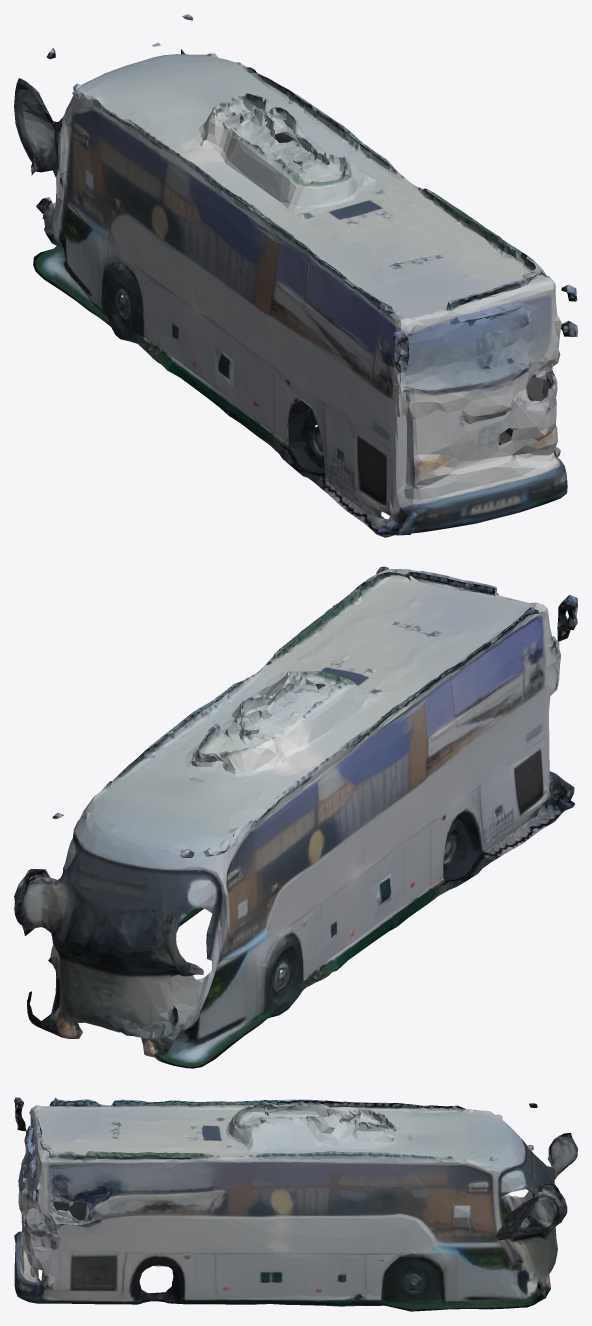
Rendered from 0_bus.glb.
The picture shows the model from 3 angles, top to bottom: view 1: azimuth 30°, elevation 25°; view 2: azimuth 150°, elevation 25°; view 3: azimuth 270°, elevation 25°; orthographic projection. The views are drawn at different scales.
Parts seen in each view (by area): view 1: world; view 2: world; view 3: world.
Part boxes in pixels (left/top/right/bottom): world: left=14, top=14, right=577, bottom=537; world: left=14, top=566, right=577, bottom=1068; world: left=14, top=1097, right=577, bottom=1311.
Bounding box in the file's own units: 0.287 × 0.3416 × 1.
1 material, 1 textured.
